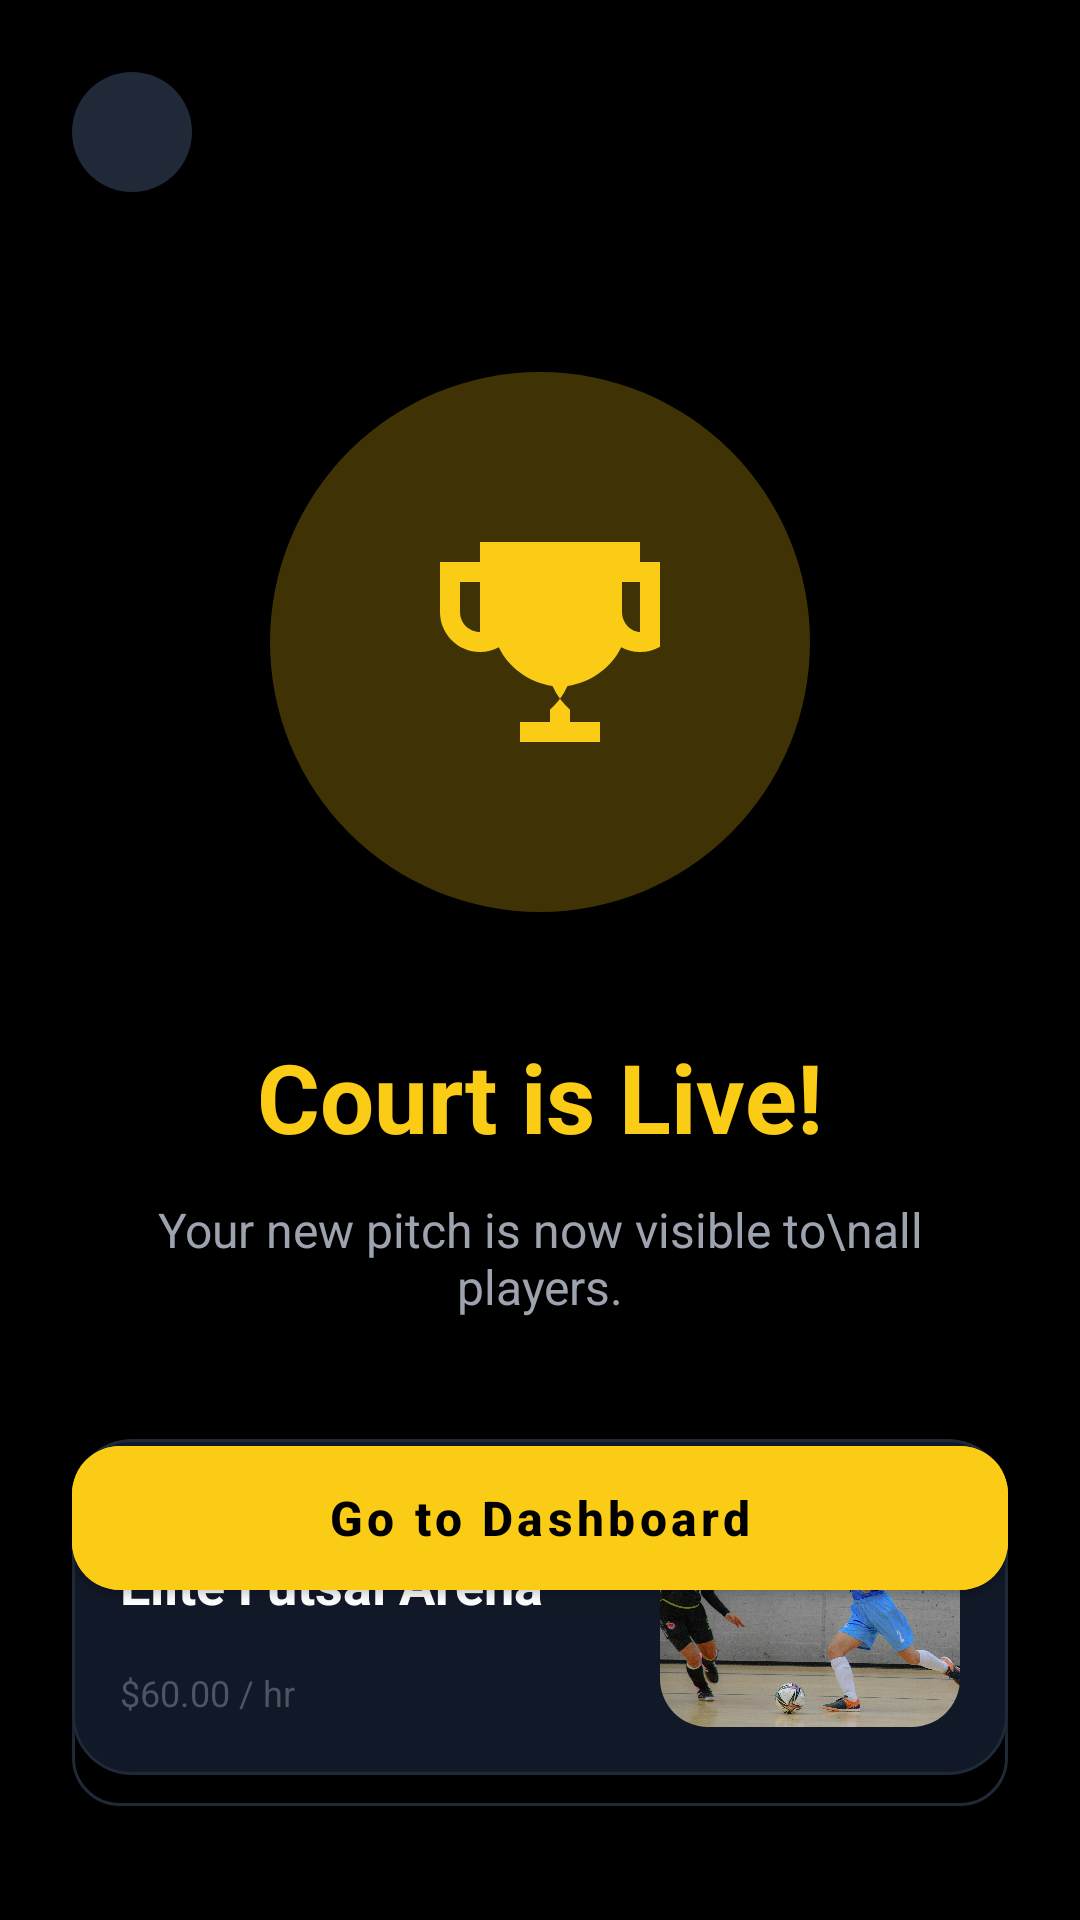

Icon click points for this 1080*1920 phone screenshot, format point (x, y):
trophy: point (550, 642)
